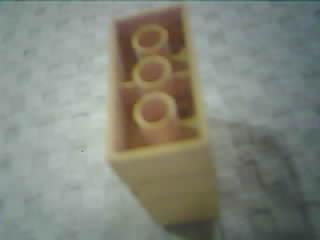lego: (99, 3, 223, 231)
